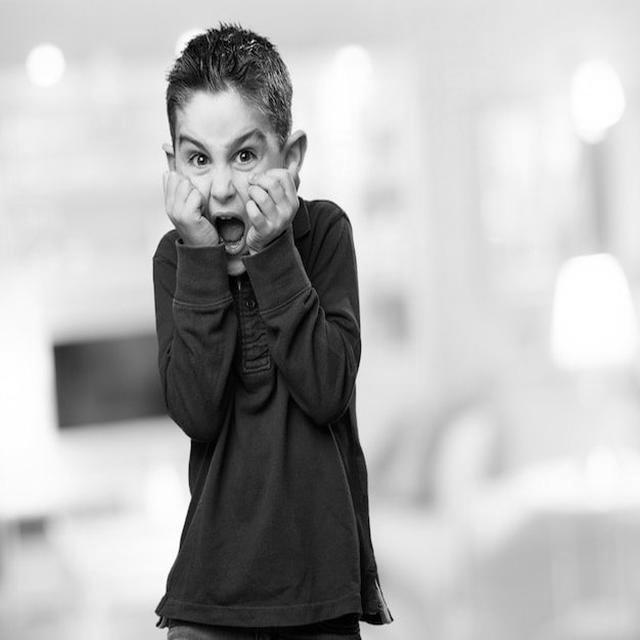Fear: (174, 88, 283, 274)
